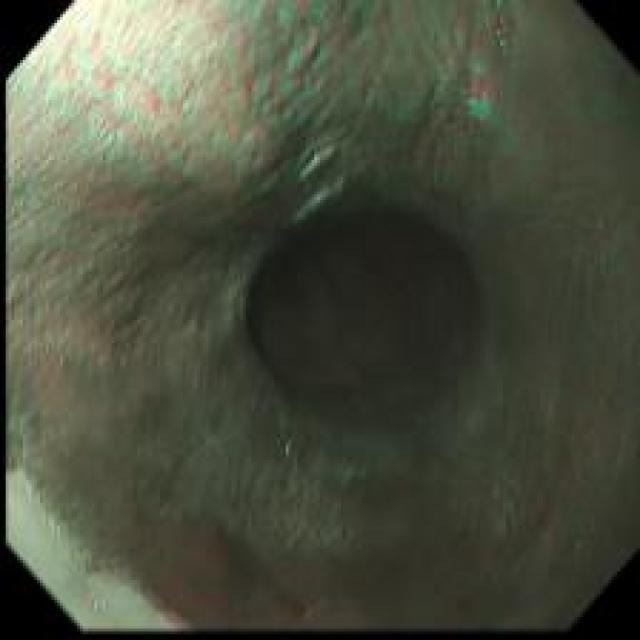blur: (2, 1, 635, 631)
color misalignment: (462, 66, 502, 126), (489, 0, 515, 55), (272, 430, 300, 462)
contrast: (234, 185, 496, 421)
saturation: (0, 2, 246, 175)
